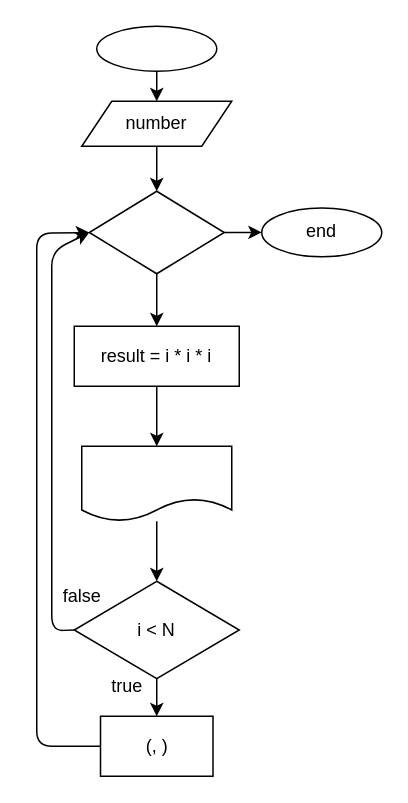
Some shapes in this 408 by 803 pixel diagram are drawn without their labels. Here are the shapes that lost their labels. From the top down, the centre of each, then its label:
At point (156, 48): "Start".
At point (156, 232): "i=1..N".
At point (156, 483): "result".
